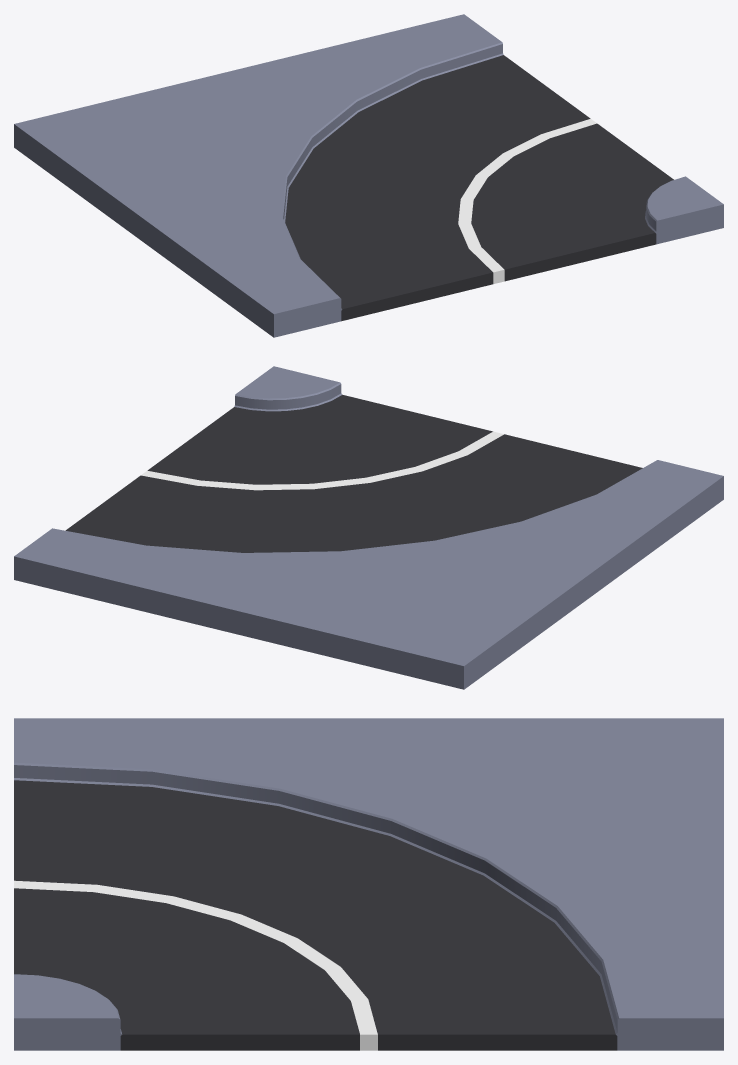
File: road-curve.fbx
The picture shows the model from 3 angles, top to bottom: view 1: azimuth 30°, elevation 25°; view 2: azimuth 150°, elevation 25°; view 3: azimuth 270°, elevation 25°; orthographic projection. The views are drawn at different scales.
Parts seen in each view (by area): view 1: road-kurve-4x4; view 2: road-kurve-4x4; view 3: road-kurve-4x4.
Part boxes in pixels (left/top/right/bottom): road-kurve-4x4: left=14, top=14, right=723, bottom=337; road-kurve-4x4: left=14, top=366, right=723, bottom=689; road-kurve-4x4: left=14, top=718, right=723, bottom=1050.
Bounding box in the file's own units: 400 × 400 × 20.
